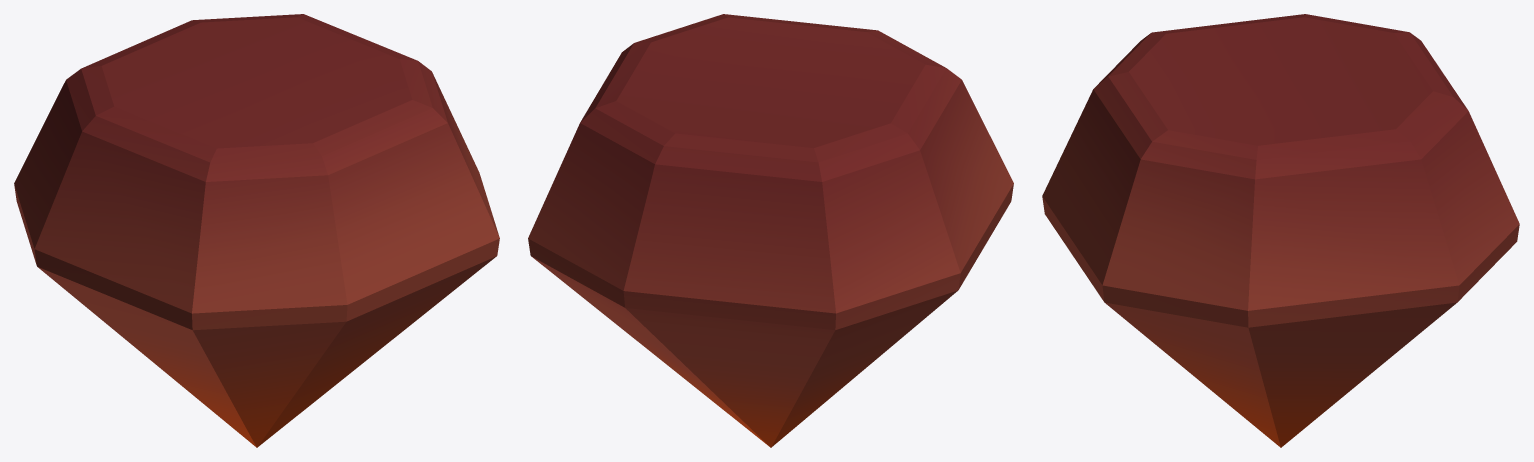
File: Gem_2.fbx
3 renders of one model, left to right at view 1: azimuth 30°, elevation 25°; view 2: azimuth 150°, elevation 25°; view 3: azimuth 270°, elevation 25°, orthographic.
Parts seen in each view (by area): view 1: Gem_2; view 2: Gem_2; view 3: Gem_2.
Boxes of the visible parts, left/top/right/bottom form: Gem_2: left=14, top=14, right=499, bottom=447; Gem_2: left=528, top=14, right=1013, bottom=447; Gem_2: left=1042, top=14, right=1519, bottom=447.
Bounding box in the file's own units: 0.1807 × 0.153 × 0.1807.
